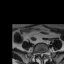CCS_normal: (41, 51, 42, 59)
LFS_normal: (43, 50, 45, 55)
LLS_normal: (42, 51, 43, 57)
RFS_stenosis: (38, 51, 39, 55)
RLS_normal: (39, 52, 41, 57)
